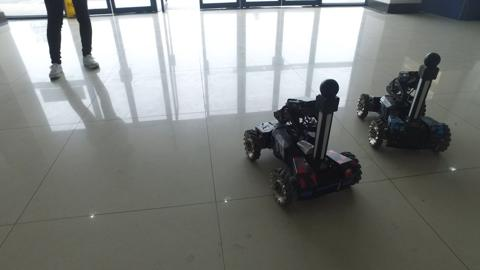chariot: (239, 76, 365, 211), (356, 45, 453, 158)
